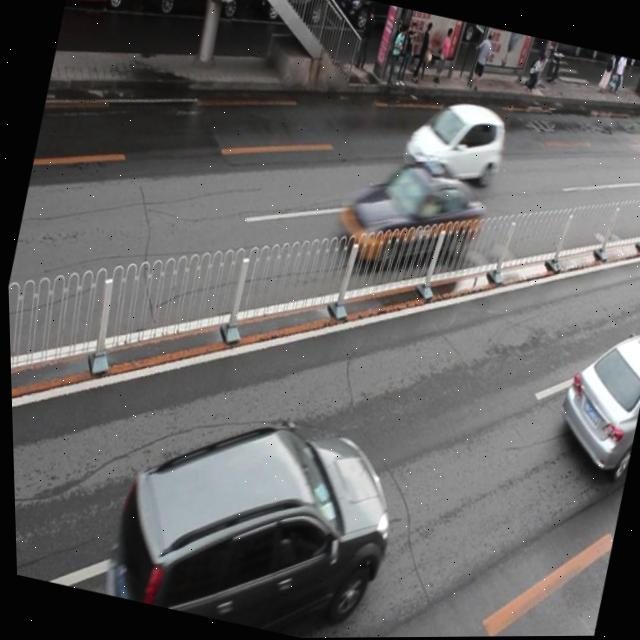car: (94, 386, 405, 640), (325, 144, 489, 286), (544, 321, 640, 481), (396, 90, 511, 194), (135, 0, 251, 31), (329, 0, 410, 43), (248, 0, 331, 29), (64, 0, 141, 20)
